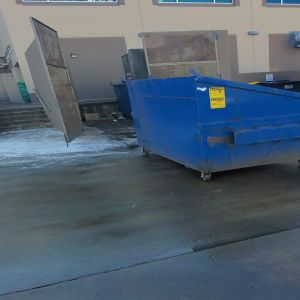Dumpster: (126, 77, 300, 184)
